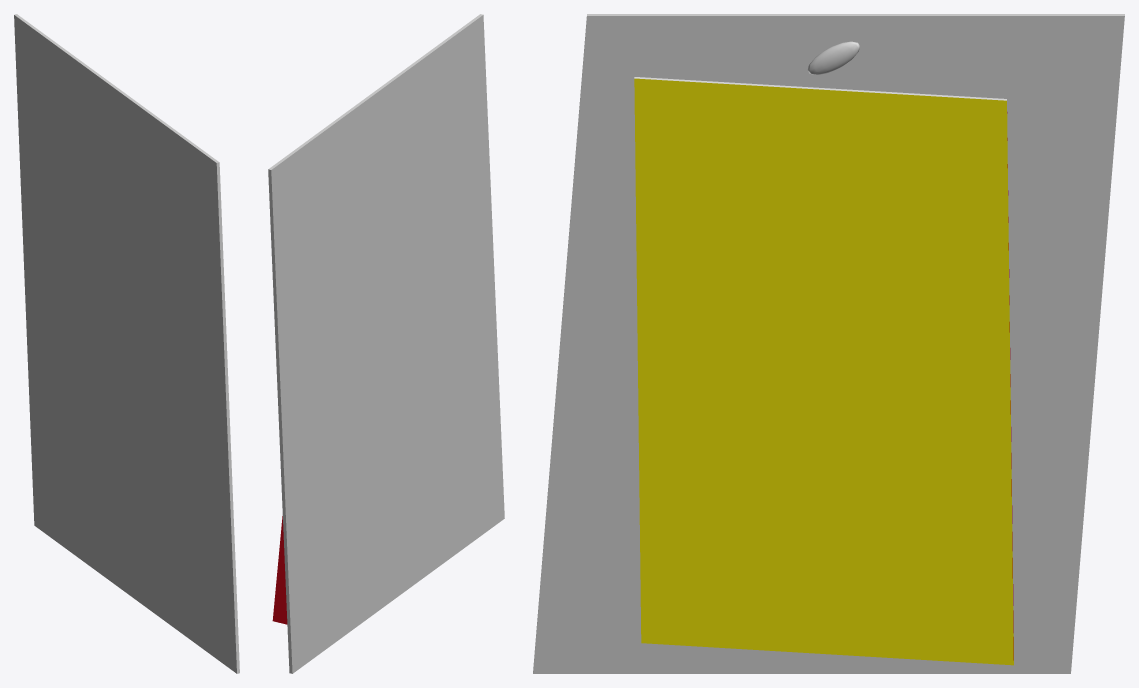
File: calendar2 1.fbx
3 views of the same model, side by side, from view 1: azimuth 30°, elevation 25°; view 2: azimuth 150°, elevation 25°; view 3: azimuth 270°, elevation 25° (orthographic). The views are drawn at different scales.
Parts seen in each view (by area): view 1: Cube; view 2: Cube, Cube.001; view 3: Cube.001, Cube, Sphere.
Boxes of the visible parts, bbox=[...] form: Cube: bbox=[14, 14, 239, 673]; Cube: bbox=[268, 14, 504, 673]; Cube.001: bbox=[272, 516, 287, 624]; Cube.001: bbox=[634, 77, 1013, 665]; Cube: bbox=[533, 14, 1124, 673]; Sphere: bbox=[807, 41, 860, 74].
Size of the model in its own units: 17.08 by 200 by 163.
